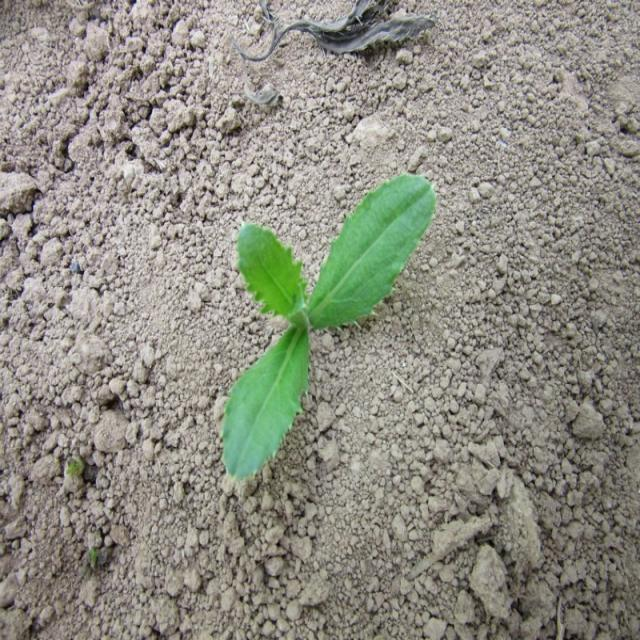field_thistle: (207, 182, 447, 468)
